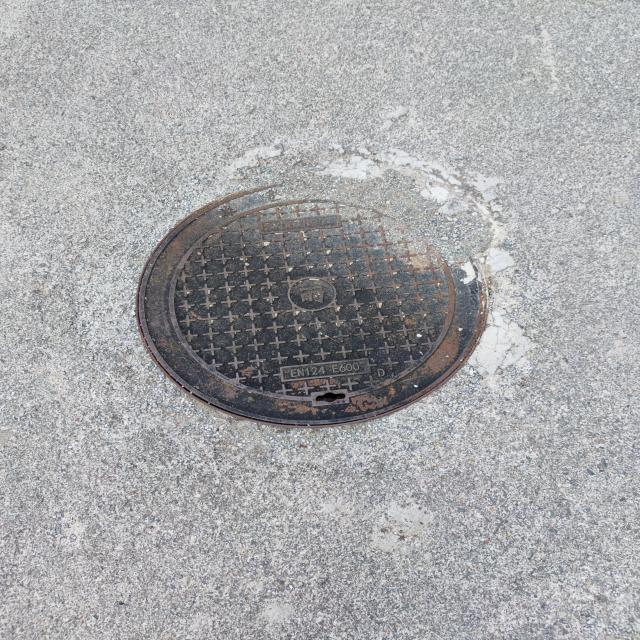Good: (129, 175, 502, 432)
